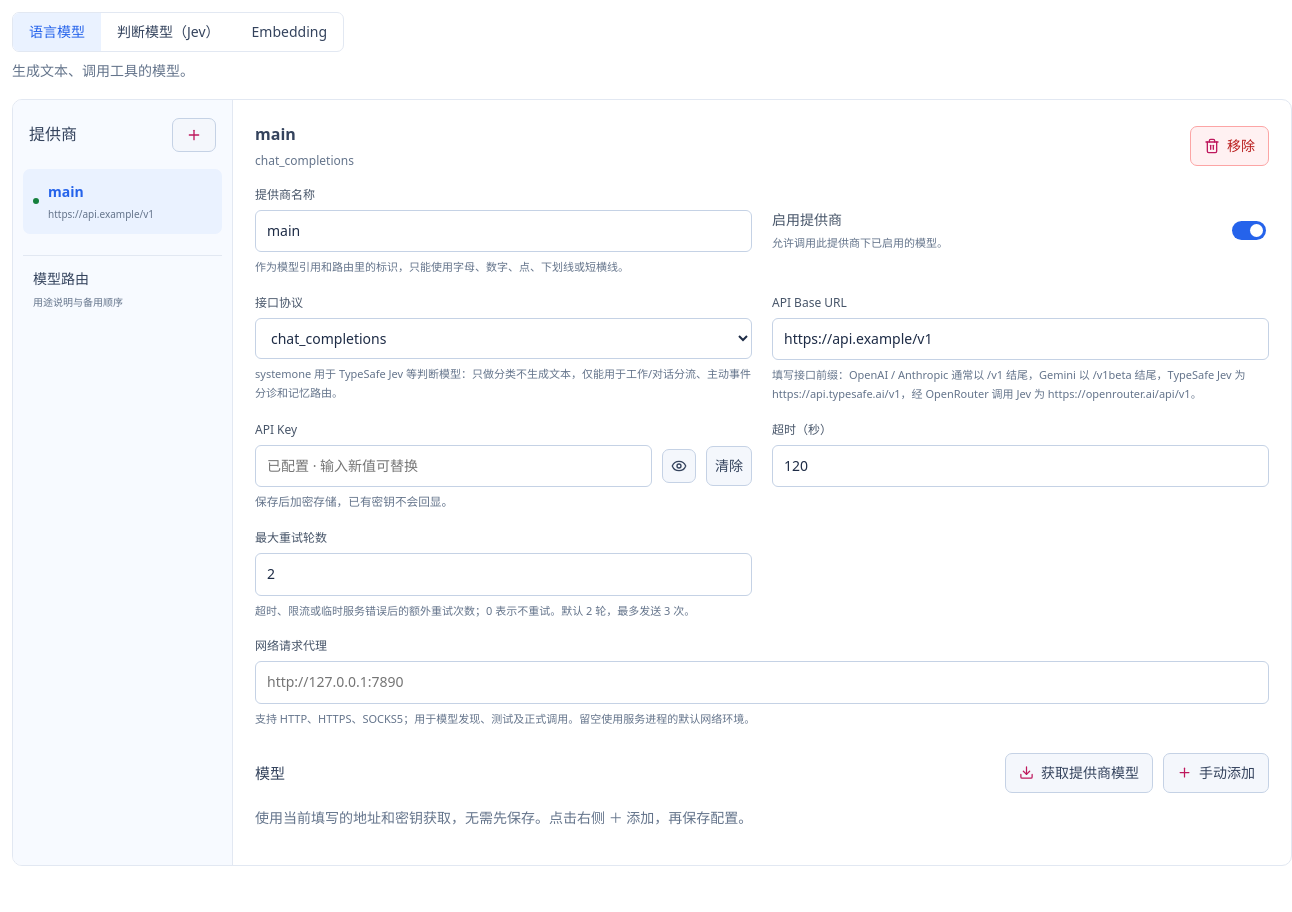
Test: model categories › creates Jev providers in the decision tab and explains each route
Step 1. Click the button "判断模型（Jev）" → x=168, y=32, box [101,13,236,51]
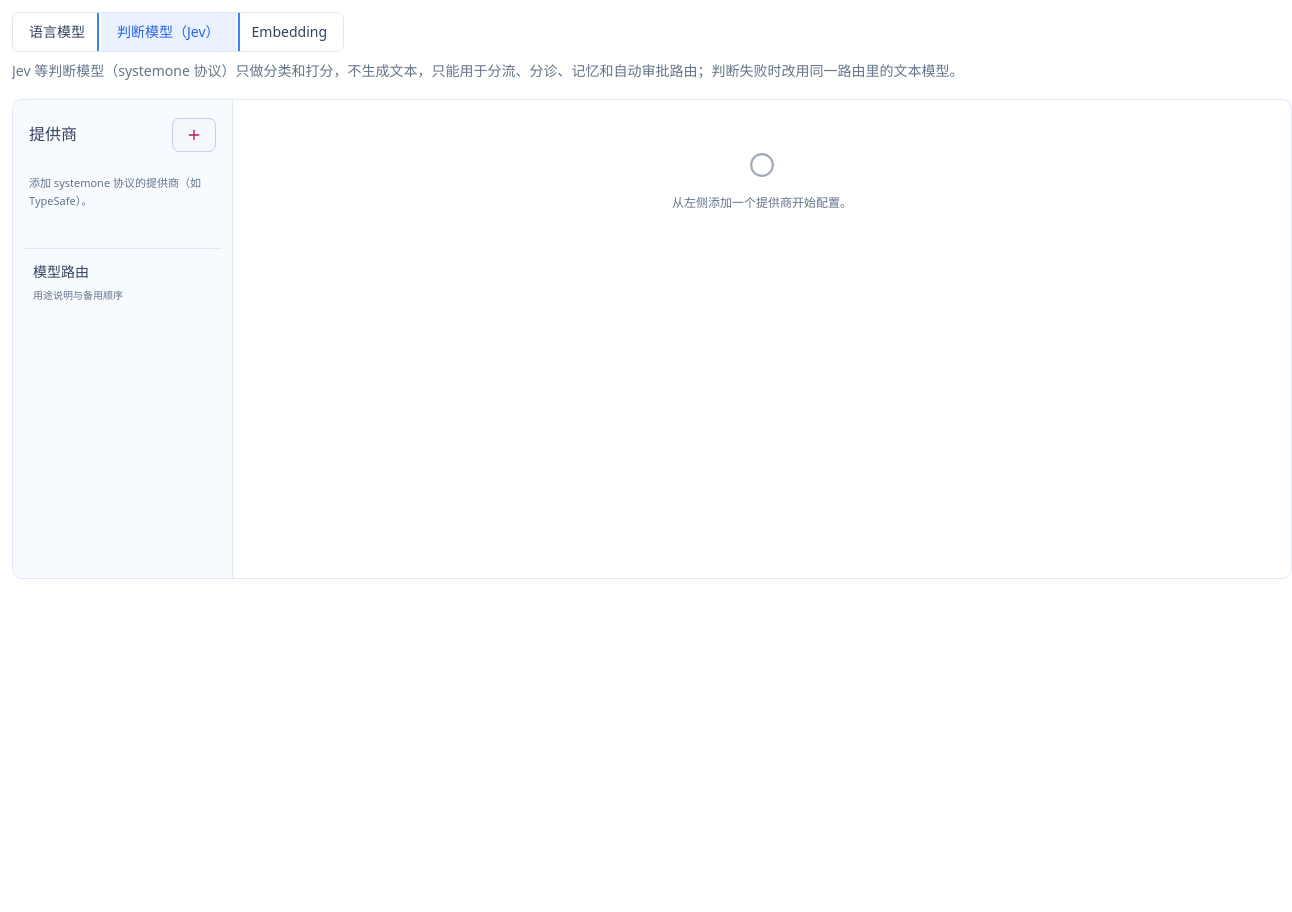
Expected: the button "main" is gone
Step 2. Click the button named "新增提供商" → x=194, y=135, box [172,118,216,152]
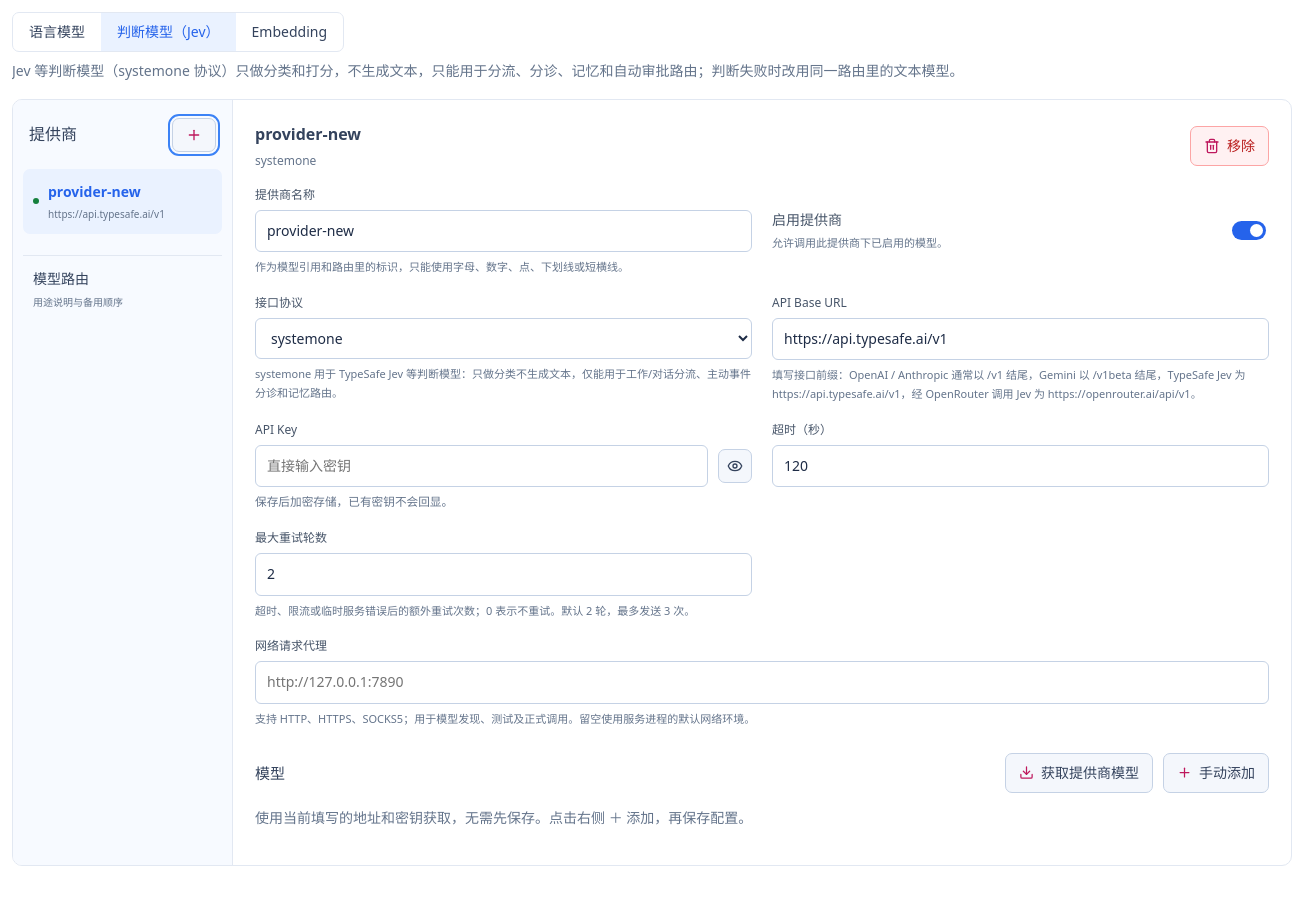
Step 3. Click the text "模型路由" → x=61, y=279, box [33,269,89,288]
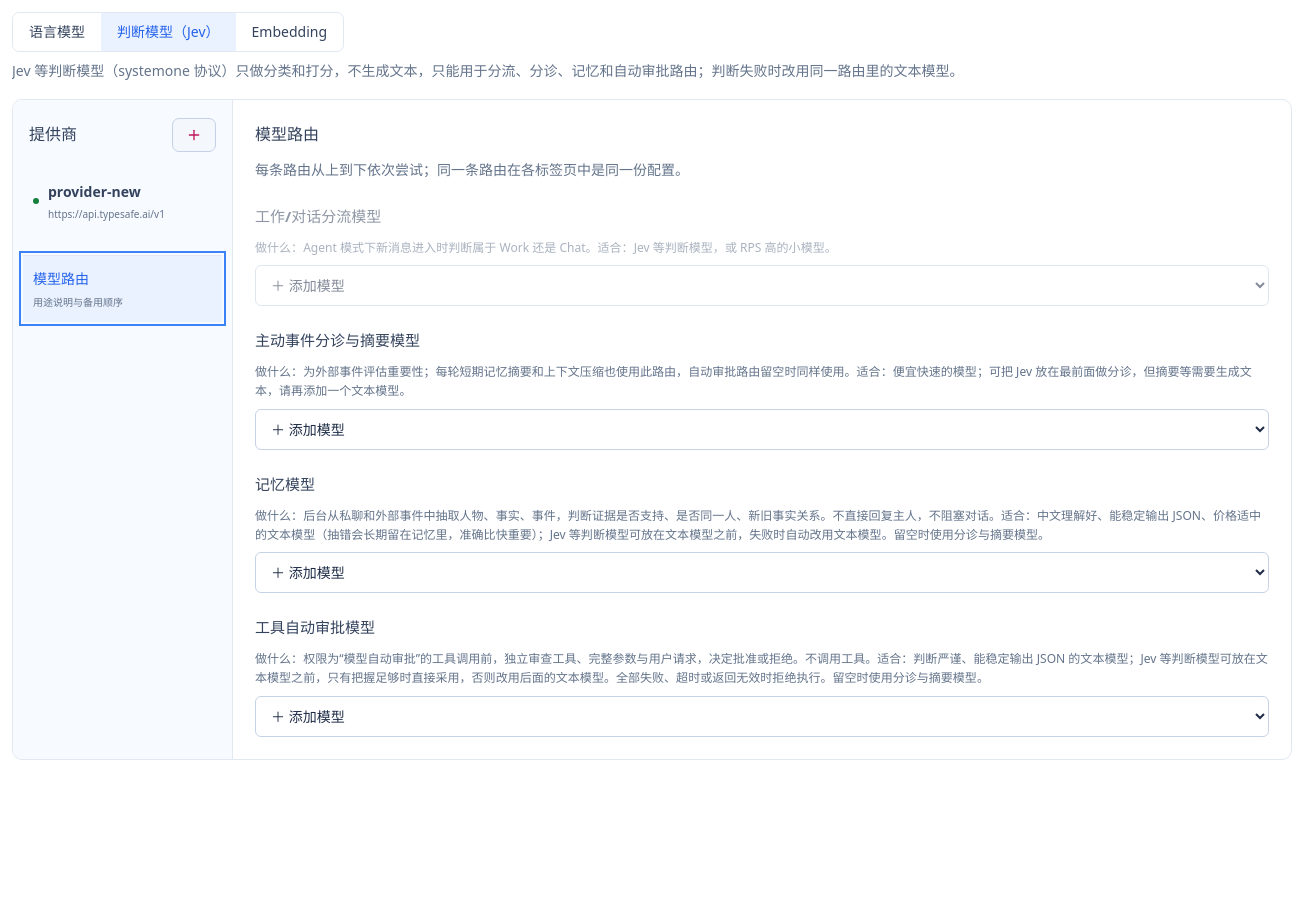
Expected: the heading "记忆模型" is shown, [255,474,315,494]
Expected: the text "准确比快重要" is shown, [255,507,1261,543]
